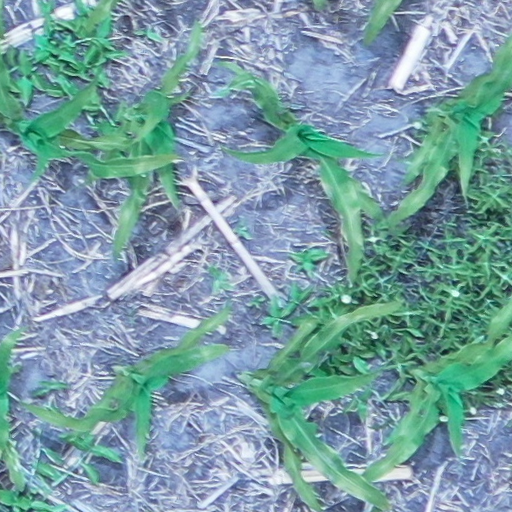planta: (208, 58, 392, 289), (18, 297, 237, 461), (239, 296, 405, 511), (74, 17, 208, 259), (358, 292, 509, 485), (372, 25, 509, 233)
